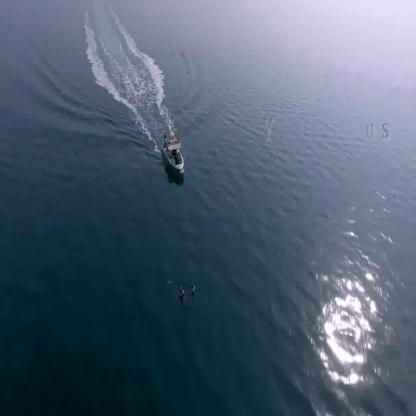Boat: (164, 133, 186, 178)
